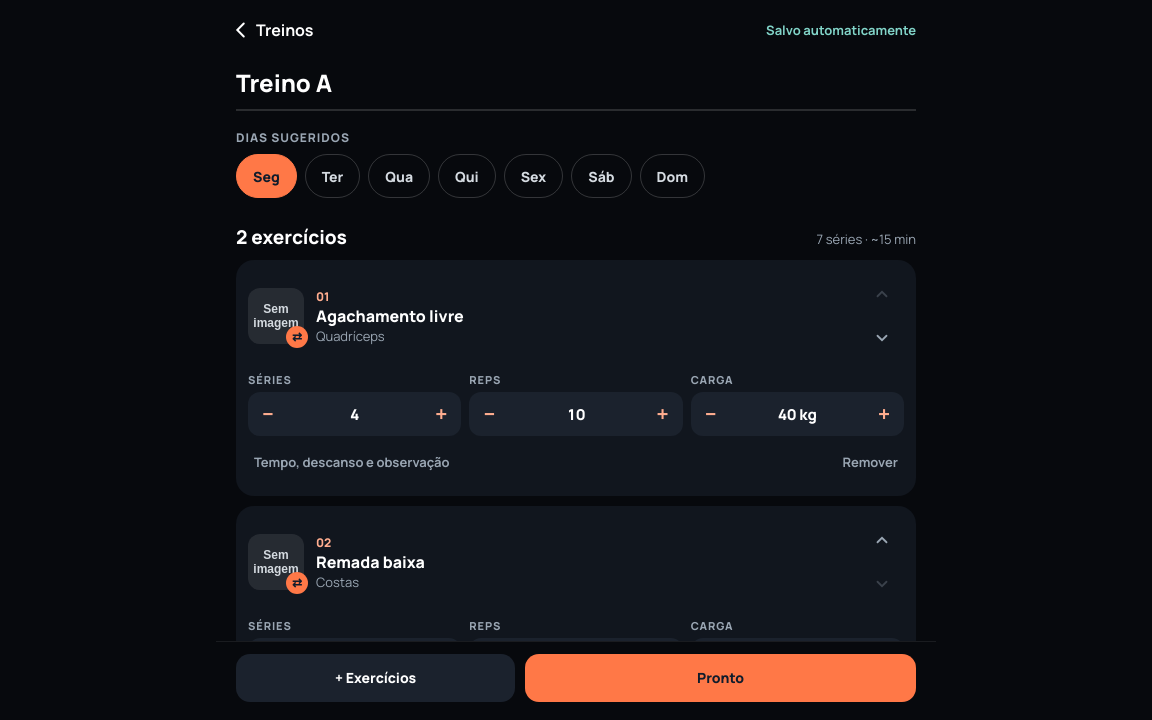
it: WorkoutEditor (FIT-146) › reordena, remove e abre o próximo passo em Pronto
Click the button named "Mover Remada baixa para cima" at (882, 540), box [860, 518, 904, 562]
(page scrolled)
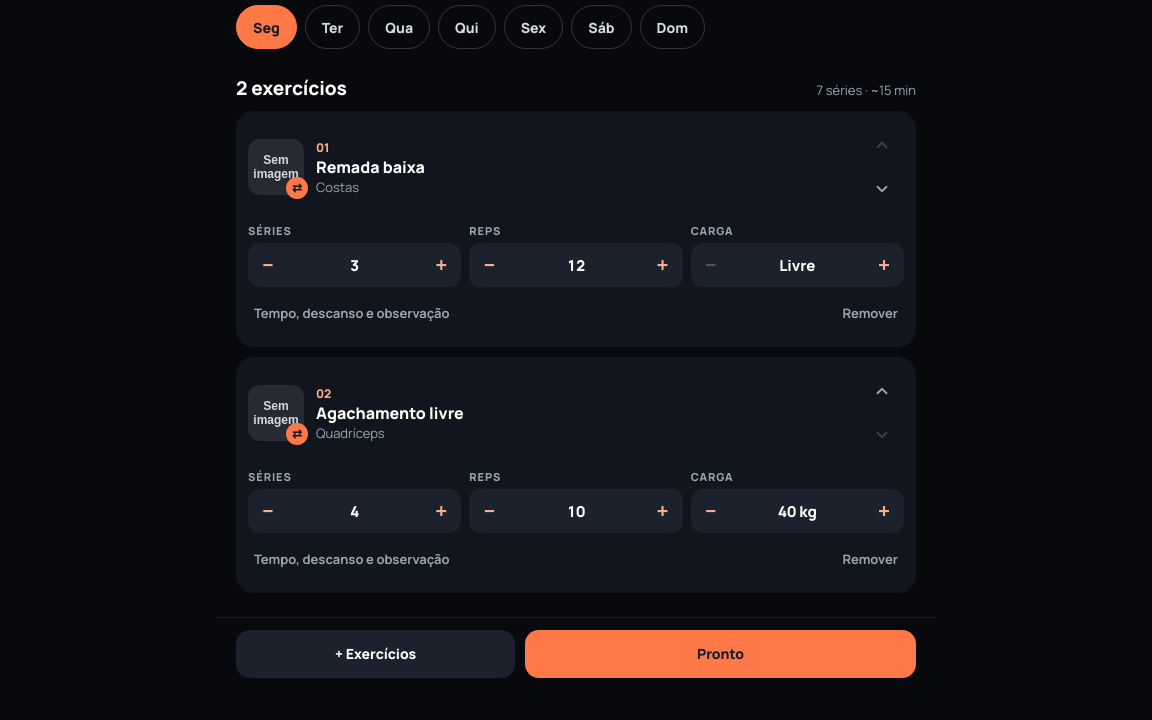
Click the button with aria-label "Remover Agachamento livre" at (870, 559), box [836, 537, 904, 581]
(page scrolled)
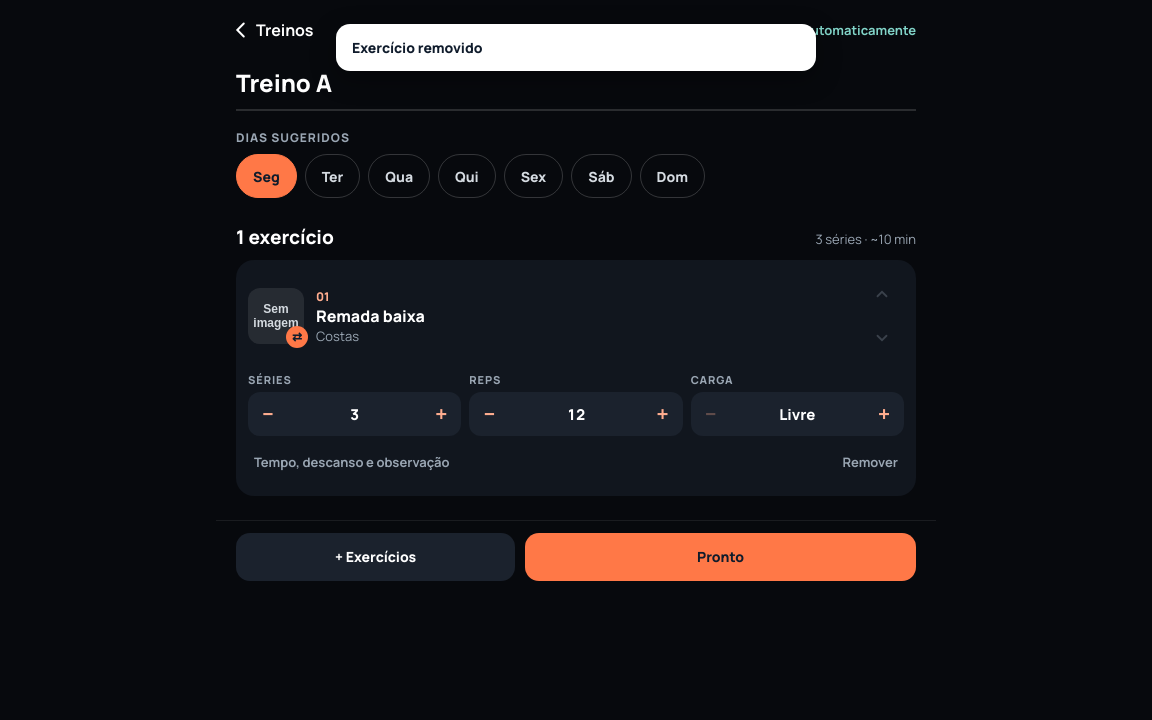
Click the button "Pronto" at (721, 557), box [525, 533, 916, 581]
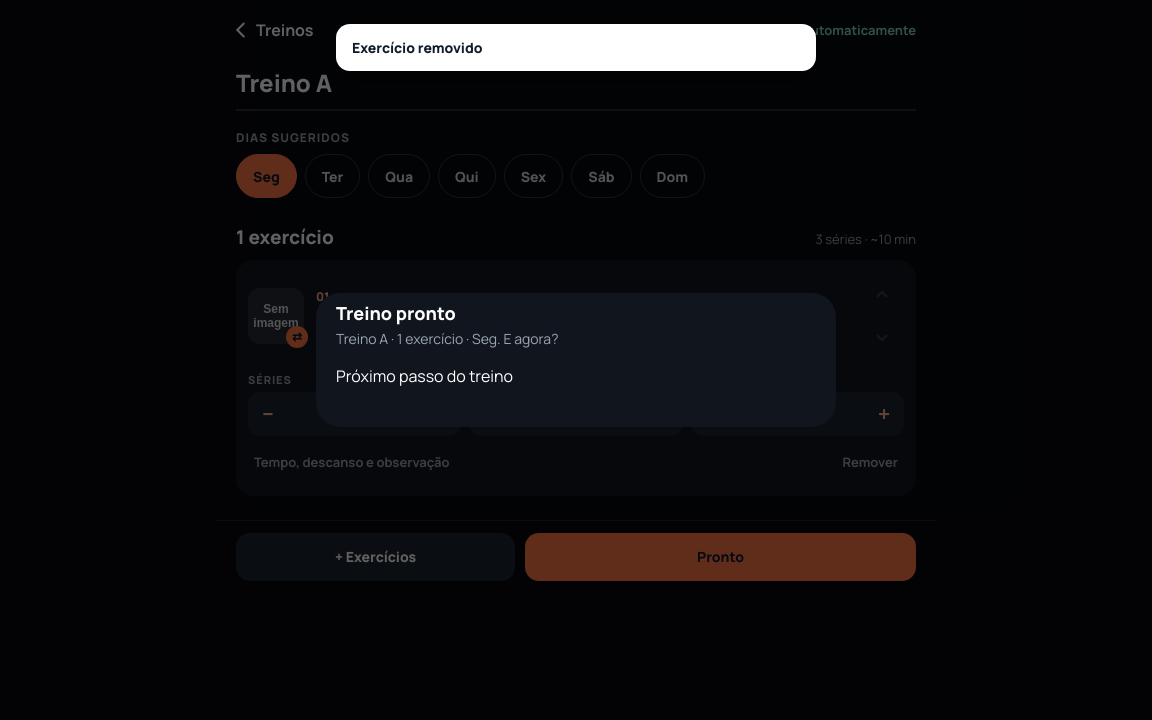
Now the dialog "Treino pronto" is shown, box [316, 293, 836, 427]
Now the text "Próximo passo do treino" is shown, box [336, 365, 513, 387]
